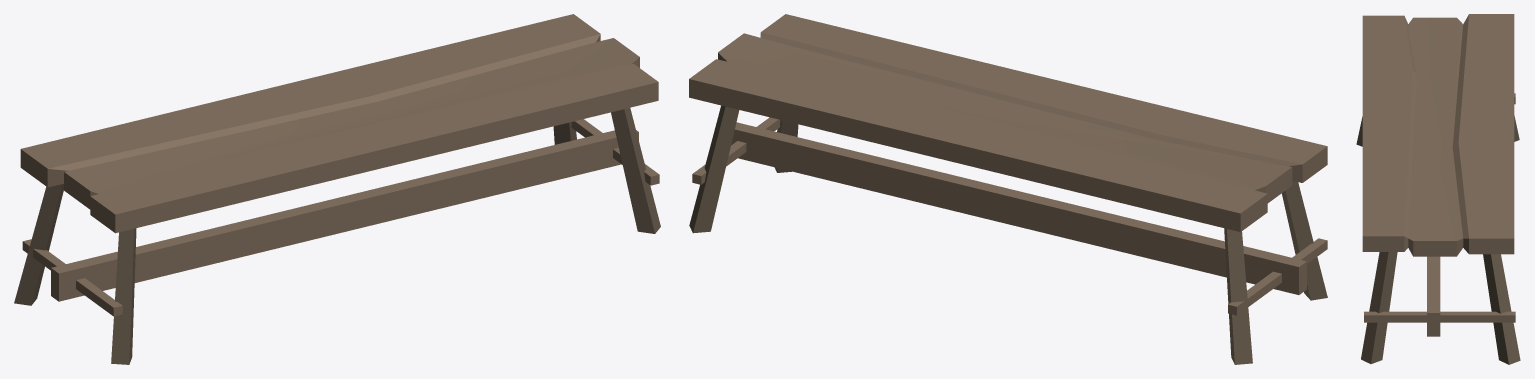
The model's file is Panchina.fbx.
3 views of the same model, side by side, from view 1: azimuth 30°, elevation 25°; view 2: azimuth 150°, elevation 25°; view 3: azimuth 270°, elevation 25° (orthographic). The views are drawn at different scales.
Parts seen in each view (by area): view 1: SM_Prop_Bench_05; view 2: SM_Prop_Bench_05; view 3: SM_Prop_Bench_05.
Part boxes in pixels (bbox=[...]): SM_Prop_Bench_05: bbox=[14, 14, 660, 364]; SM_Prop_Bench_05: bbox=[689, 14, 1327, 364]; SM_Prop_Bench_05: bbox=[1356, 14, 1520, 364].
Size of the model in its own units: 197 by 48.65 by 57.92.
Materials: 1 (1 with a texture image).
